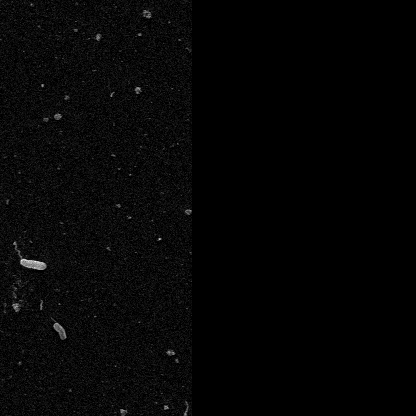cell2cell: (12, 240, 25, 262), (49, 315, 61, 327)
cell2surface: (19, 259, 49, 271), (52, 322, 67, 341)
